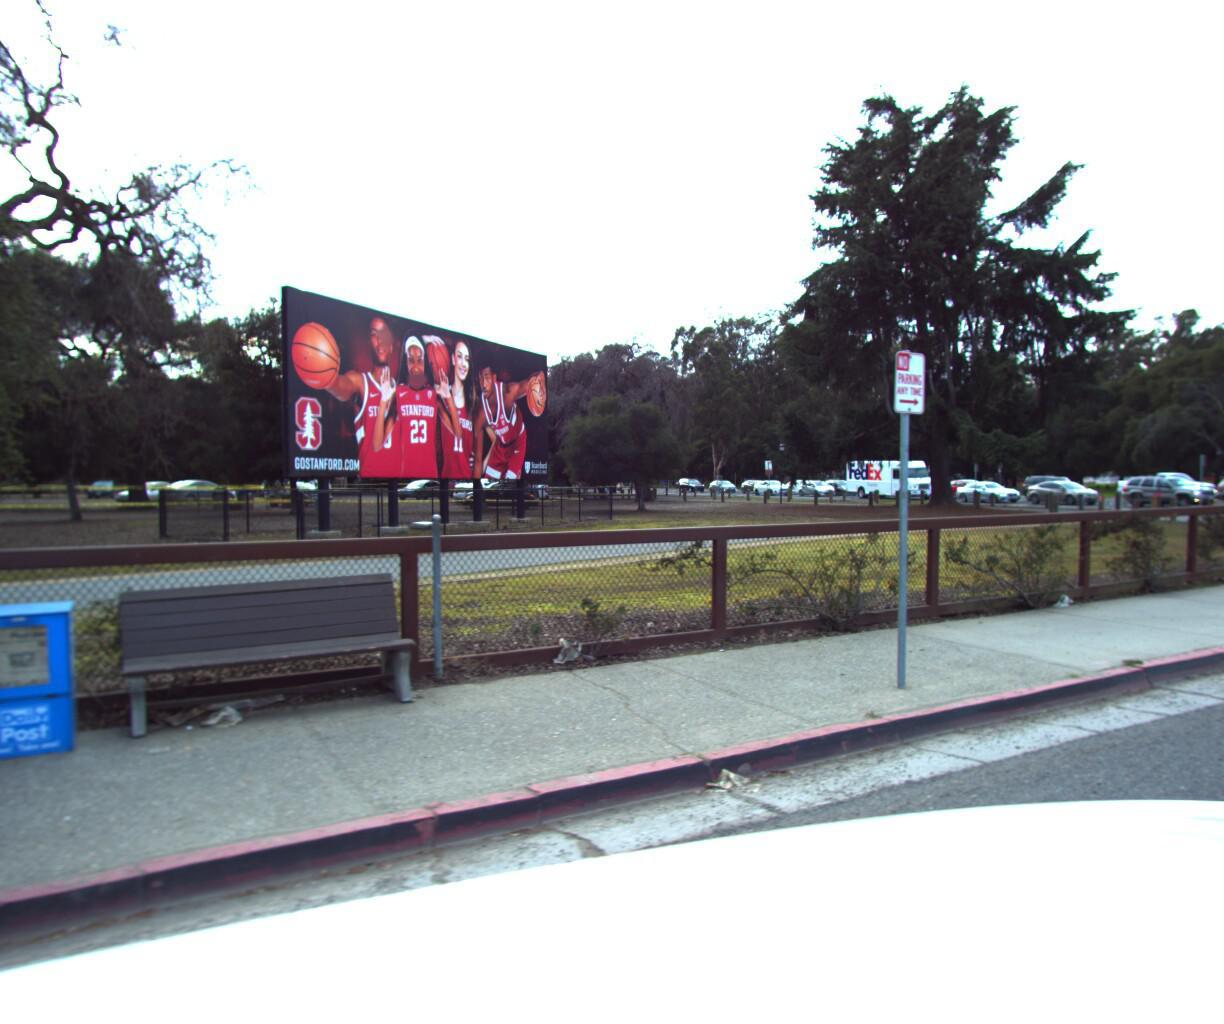car: (1118, 466, 1224, 502), (1114, 463, 1224, 495), (1024, 473, 1108, 502), (951, 474, 1029, 500), (795, 474, 839, 492), (751, 474, 793, 492), (1213, 465, 1224, 501)
truck: (842, 450, 942, 499)
